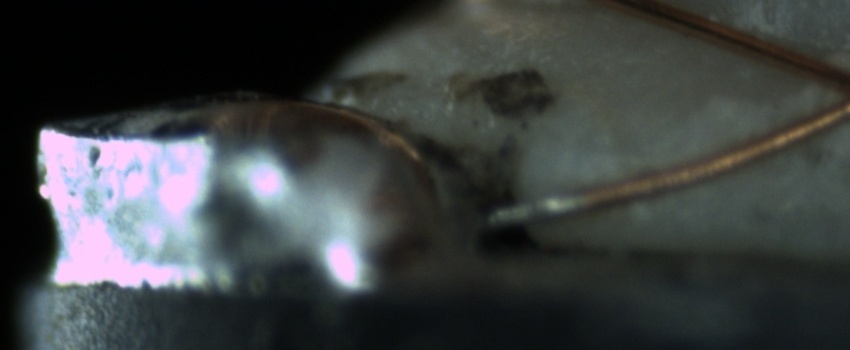CL: (806, 52, 850, 125)
TS: (488, 191, 575, 231)
